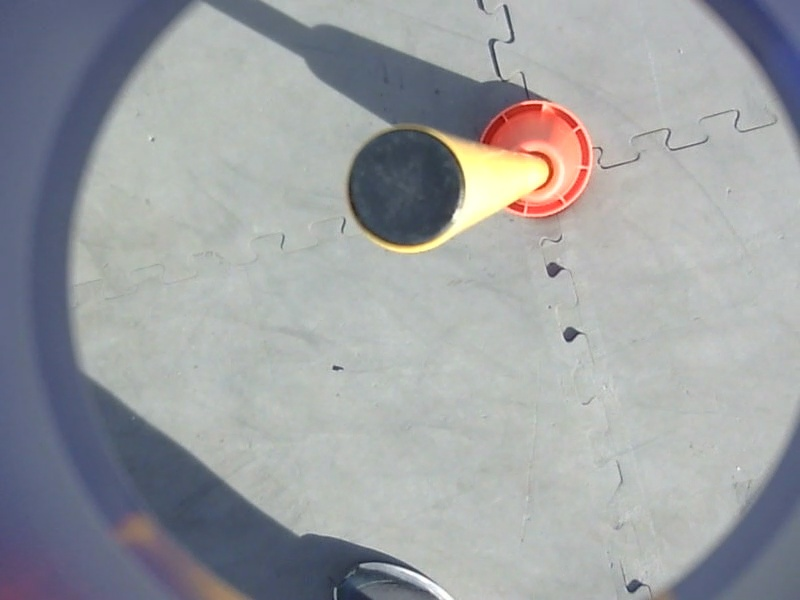tip: (336, 118, 475, 260)
